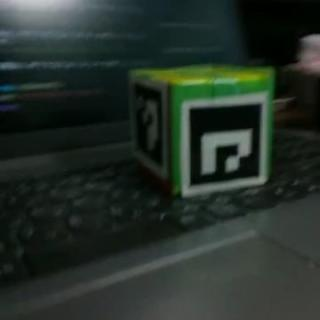armor: (182, 94, 264, 194), (130, 76, 165, 177)
robot: (125, 66, 272, 200)
